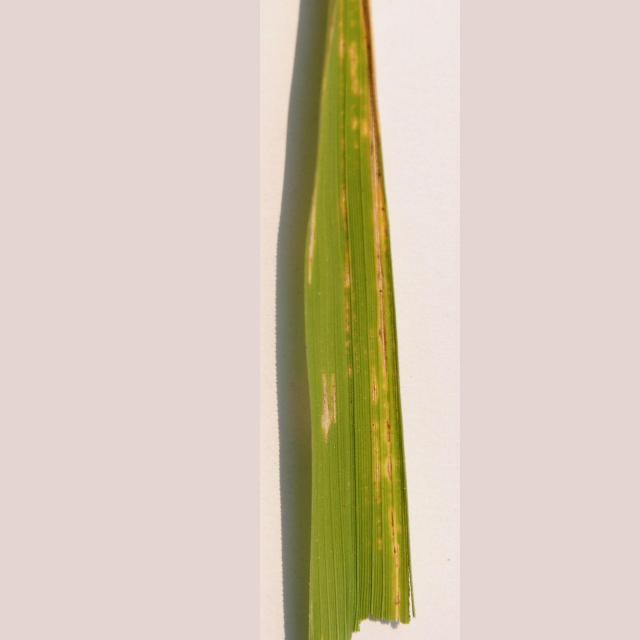leaf blight: (308, 1, 413, 617)
